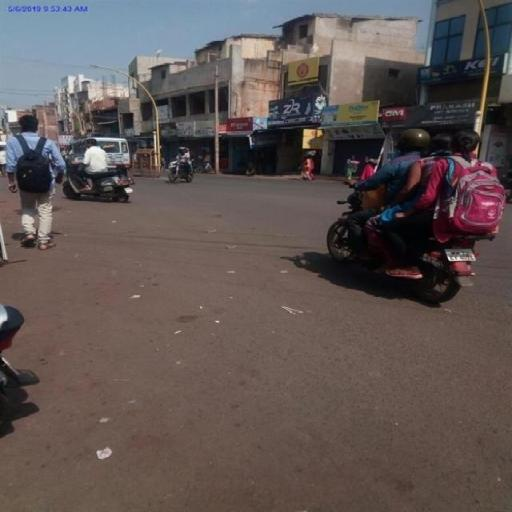tripple riding: (348, 120, 510, 236)
